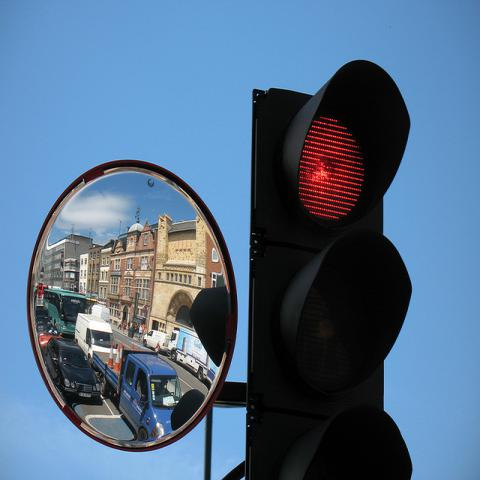bus: (42, 289, 88, 338)
car: (47, 336, 104, 407), (37, 322, 63, 354), (36, 306, 52, 331)
truck: (92, 349, 182, 441), (74, 313, 116, 371)
